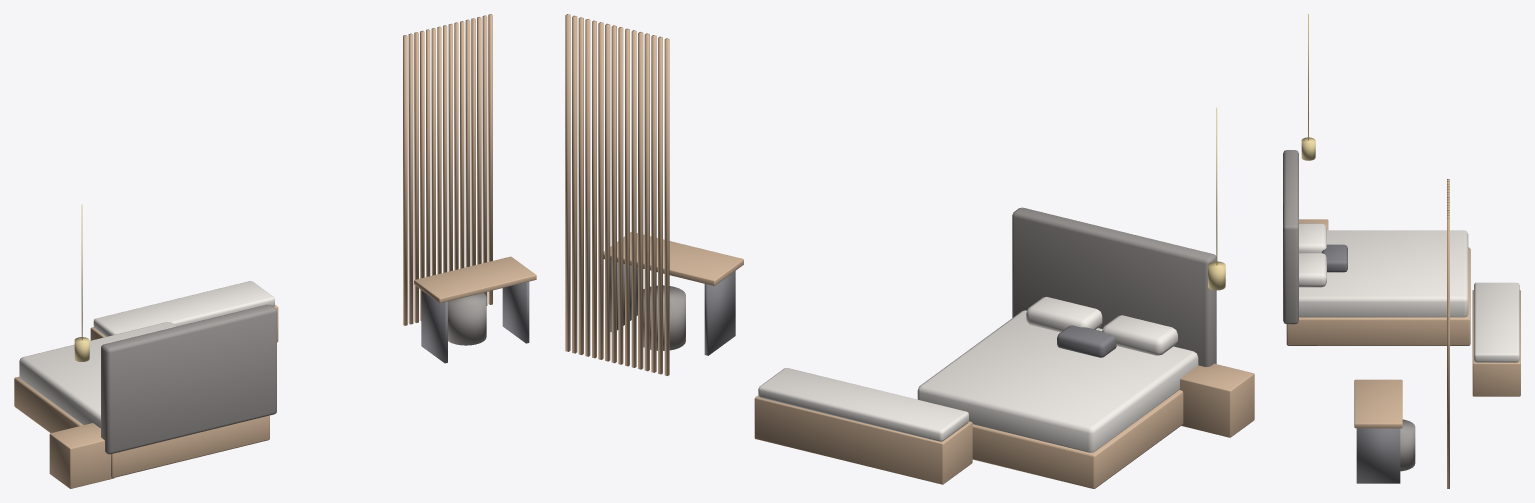
The model's file is room_modern_bedroom.glb.
The picture shows the model from 3 angles, left to right: view 1: azimuth 30°, elevation 25°; view 2: azimuth 150°, elevation 25°; view 3: azimuth 270°, elevation 25°; orthographic projection. The views are drawn at different scales.
Parts seen in each view (by area): view 1: Bed_Headboard, Bed_Base, Bed_Mattress, Bedroom_Bench_Cushion, Nightstand, Vanity_Desk, Vanity_Stool, Slat_1, Vanity_Leg_1, Slat_14, Slat_11, Slat_0 (+13 smaller); view 2: Bed_Mattress, Bed_Headboard, Bedroom_Window_Bench, Bed_Base, Bedroom_Bench_Cushion, Nightstand, Vanity_Desk, Vanity_Leg_1, Slat_2, Slat_10, Slat_15, Slat_3 (+16 smaller); view 3: Bed_Mattress, Bed_Base, Bedroom_Bench_Cushion, Bed_Headboard, Vanity_Leg_2, Vanity_Desk, Bedroom_Window_Bench, Pillow_R1, Pillow_L1, Slat_15, Vanity_Stool, Pillow_Accent (+1 smaller).
Boxes of the visible parts, x1,y1,x2,y2 form: Bed_Headboard: (101, 304, 276, 454); Bed_Base: (14, 376, 269, 477); Bed_Mattress: (19, 322, 176, 428); Bedroom_Bench_Cushion: (93, 281, 274, 336); Nightstand: (49, 423, 113, 488); Vanity_Desk: (414, 256, 536, 303); Vanity_Stool: (448, 293, 486, 345); Slat_1: (408, 33, 413, 324); Vanity_Leg_1: (421, 290, 447, 363); Slat_14: (482, 15, 487, 305); Slat_11: (465, 19, 470, 267); Slat_0: (403, 35, 407, 325); Bed_Mattress: (917, 310, 1198, 452); Bed_Headboard: (1012, 207, 1216, 366); Bedroom_Window_Bench: (754, 396, 972, 484); Bed_Base: (972, 390, 1183, 488); Bedroom_Bench_Cushion: (758, 368, 968, 441); Nightstand: (1179, 363, 1254, 437); Vanity_Desk: (603, 232, 743, 285); Vanity_Leg_1: (704, 271, 735, 355); Slat_2: (651, 35, 656, 372); Slat_10: (598, 22, 603, 359); Slat_15: (565, 14, 570, 351); Slat_3: (644, 33, 649, 371); Bed_Mattress: (1299, 230, 1468, 317); Bed_Base: (1286, 247, 1470, 345); Bedroom_Bench_Cushion: (1474, 282, 1519, 362); Bed_Headboard: (1283, 150, 1298, 324); Vanity_Leg_2: (1356, 428, 1400, 483); Vanity_Desk: (1354, 379, 1402, 428); Bedroom_Window_Bench: (1472, 290, 1520, 396); Pillow_R1: (1299, 253, 1326, 287); Pillow_L1: (1299, 223, 1326, 252); Slat_15: (1447, 218, 1449, 488); Vanity_Stool: (1400, 419, 1415, 471); Pillow_Accent: (1322, 244, 1347, 272).
Size of the model in its own units: 6.24 by 3.4 by 2.72.
